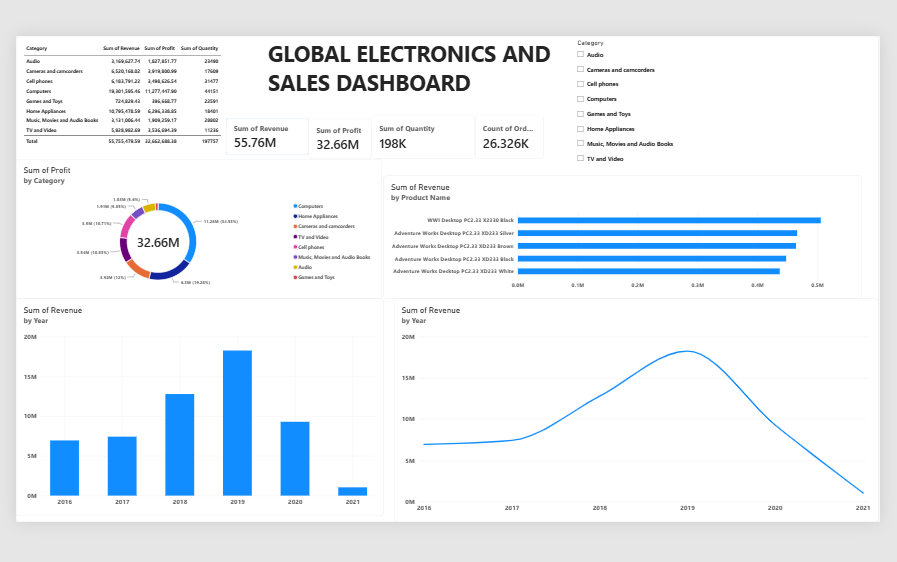

What the dashboard file says about the page in this screenshot:
{"tool":"powerbi","page":{"name":"Page 1","canvas":[1920,1080],"ordinal":0},"visuals":[{"type":"tableEx","fields":{"Values":["ecommerce_sales_analysis_final.Category","Sum(ecommerce_sales_analysis_final.Revenue)","Sum(ecommerce_sales_analysis_final.Profit)","Sum(ecommerce_sales_analysis_final.Quantity)"]},"box":[0,0,1916.7,1080],"z":0},{"type":"clusteredColumnChart","fields":{"Category":["ecommerce_sales_analysis_final.Order Date.Variation.Date Hierarchy.Year","ecommerce_sales_analysis_final.Order Date.Variation.Date Hierarchy.Quarter","ecommerce_sales_analysis_final.Order Date.Variation.Date Hierarchy.Month","ecommerce_sales_analysis_final.Order Date.Variation.Date Hierarchy.Day"],"Y":["Sum(ecommerce_sales_analysis_final.Revenue)"]},"box":[0,583.3,816.7,483.3],"z":1000},{"type":"lineChart","fields":{"Category":["ecommerce_sales_analysis_final.Order Date.Variation.Date Hierarchy.Year","ecommerce_sales_analysis_final.Order Date.Variation.Date Hierarchy.Quarter","ecommerce_sales_analysis_final.Order Date.Variation.Date Hierarchy.Month","ecommerce_sales_analysis_final.Order Date.Variation.Date Hierarchy.Day"],"Y":["Sum(ecommerce_sales_analysis_final.Revenue)"]},"box":[840,583.3,1076.7,496.7],"z":2000},{"type":"clusteredBarChart","fields":{"Category":["ecommerce_sales_analysis_final.Product Name"],"Y":["Sum(ecommerce_sales_analysis_final.Revenue)"]},"box":[816.7,310,1063.3,273.3],"z":3000},{"type":"donutChart","fields":{"Category":["ecommerce_sales_analysis_final.Category"],"Y":["Sum(ecommerce_sales_analysis_final.Profit)"]},"box":[0,273.3,813.3,310],"z":4000},{"type":"cardVisual","fields":{"Data":["Sum(ecommerce_sales_analysis_final.Revenue)"]},"box":[466.7,183.3,183.3,80],"z":5000},{"type":"cardVisual","fields":{"Data":["Sum(ecommerce_sales_analysis_final.Profit)"]},"box":[650,183.3,140,90],"z":6000},{"type":"cardVisual","fields":{"Data":["Sum(ecommerce_sales_analysis_final.Quantity)"]},"box":[790,176.7,230,96.7],"z":7000},{"type":"cardVisual","fields":{"Data":["Count(ecommerce_sales_analysis_final.Order Number)"]},"box":[1020,176.7,153.3,96.7],"z":8000},{"type":"slicer","fields":{"Values":["ecommerce_sales_analysis_final.Category"]},"box":[1240,6.7,676.7,303.3],"z":9000},{"type":"textbox","box":[100,3.3,300,396.7],"z":10000},{"type":"textbox","box":[100,100,300,300],"z":11000},{"type":"textbox","box":[560,6,630,128],"z":12000}]}

Visuals, with their boxes on the page's 1920x1080 design canvas (x1, y1, x2, y2). These are canvas units, not pixel positions in the 897x562 screenshot, which may show the page scaled, cropped or inside an application window:
tableEx - ecommerce_sales_analysis_final.Category x Sum(ecommerce_sales_analysis_final.Revenue): x1=0, y1=0, x2=1917, y2=1080
clusteredColumnChart - ecommerce_sales_analysis_final.Order Date.Variation.Date Hierarchy.Year x ecommerce_sales_analysis_final.Order Date.Variation.Date Hierarchy.Quarter: x1=0, y1=583, x2=817, y2=1067
lineChart - ecommerce_sales_analysis_final.Order Date.Variation.Date Hierarchy.Year x ecommerce_sales_analysis_final.Order Date.Variation.Date Hierarchy.Quarter: x1=840, y1=583, x2=1917, y2=1080
clusteredBarChart - ecommerce_sales_analysis_final.Product Name x Sum(ecommerce_sales_analysis_final.Revenue): x1=817, y1=310, x2=1880, y2=583
donutChart - ecommerce_sales_analysis_final.Category x Sum(ecommerce_sales_analysis_final.Profit): x1=0, y1=273, x2=813, y2=583
cardVisual - Sum(ecommerce_sales_analysis_final.Revenue): x1=467, y1=183, x2=650, y2=263
cardVisual - Sum(ecommerce_sales_analysis_final.Profit): x1=650, y1=183, x2=790, y2=273
cardVisual - Sum(ecommerce_sales_analysis_final.Quantity): x1=790, y1=177, x2=1020, y2=273
cardVisual - Count(ecommerce_sales_analysis_final.Order Number): x1=1020, y1=177, x2=1173, y2=273
slicer - ecommerce_sales_analysis_final.Category: x1=1240, y1=7, x2=1917, y2=310
textbox: x1=100, y1=3, x2=400, y2=400
textbox: x1=100, y1=100, x2=400, y2=400
textbox: x1=560, y1=6, x2=1190, y2=134
